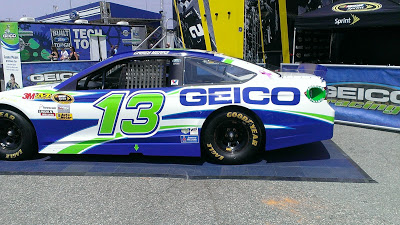Geico: (178, 84, 303, 108)
